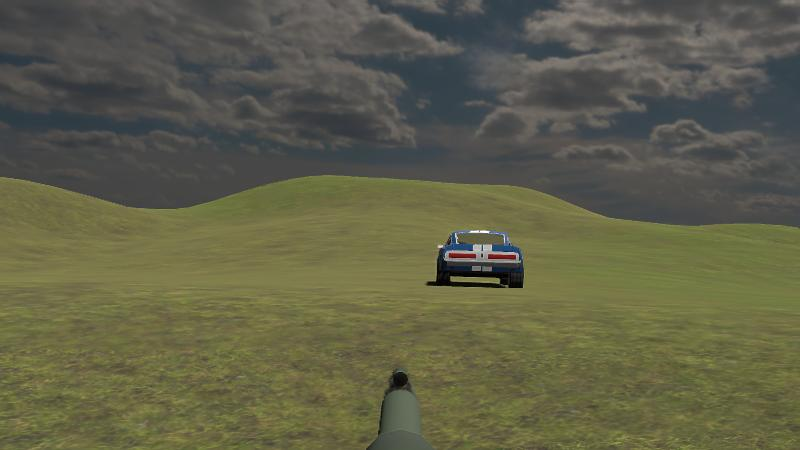car: (434, 224, 526, 291)
